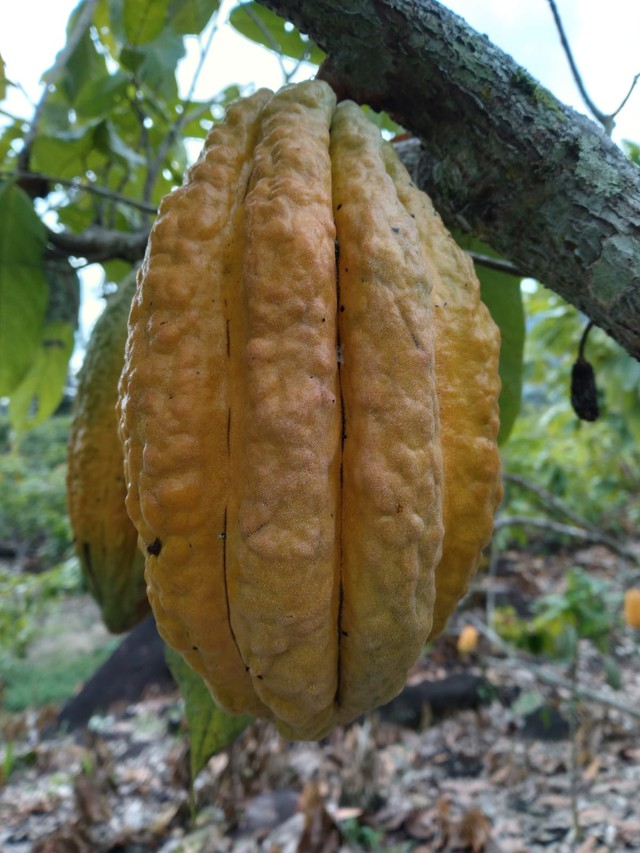Health: (111, 73, 516, 747)
